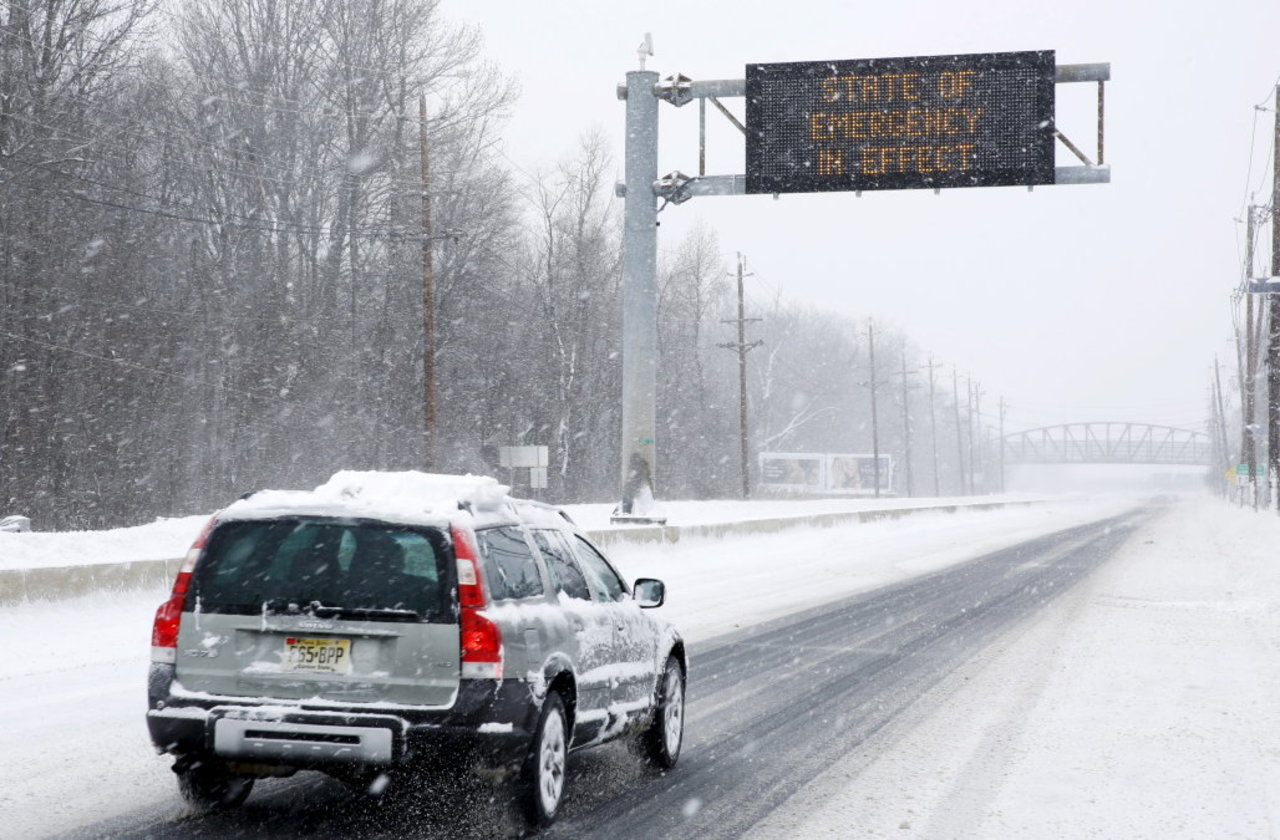car: (140, 469, 702, 834)
